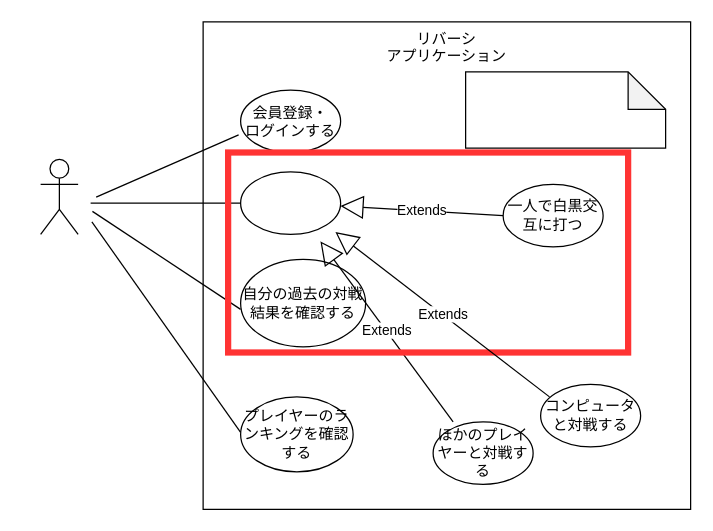
Image size: 713x531. Some labels were removed from this diagram. The shapes that lost their labels are listed below. From the top down, each one's box as (x1, y1, x2, y2) in pixels, then its label:
(464, 71, 666, 148): ・対戦を開始する ・盤面を見る ・石を打つ ・勝敗を確認する
(39, 158, 78, 234): プレイヤー
(239, 171, 341, 234): 対戦する
